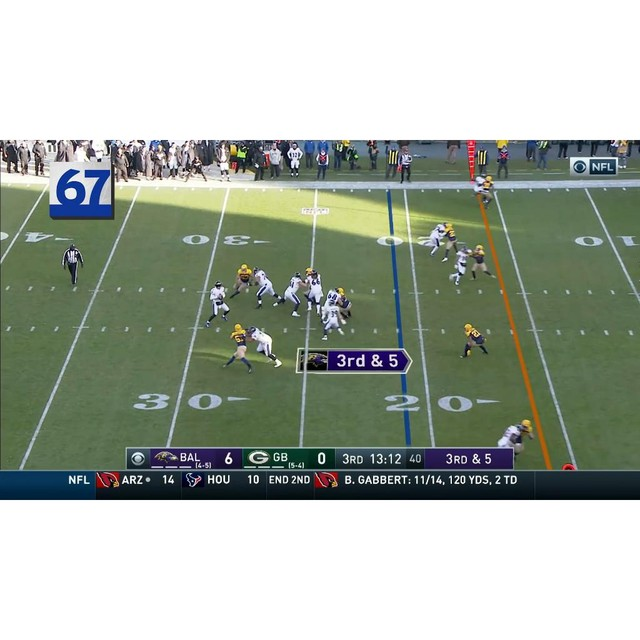american-football-player: (222, 323, 253, 373), (496, 420, 534, 458), (248, 325, 281, 368), (276, 271, 304, 318), (252, 266, 282, 309), (206, 280, 231, 328), (302, 267, 324, 317), (460, 322, 488, 358), (321, 301, 345, 341), (449, 245, 472, 285), (470, 244, 494, 280), (230, 263, 252, 299), (425, 222, 446, 258), (441, 223, 459, 263)
referee: (61, 242, 84, 290), (398, 146, 413, 184)
